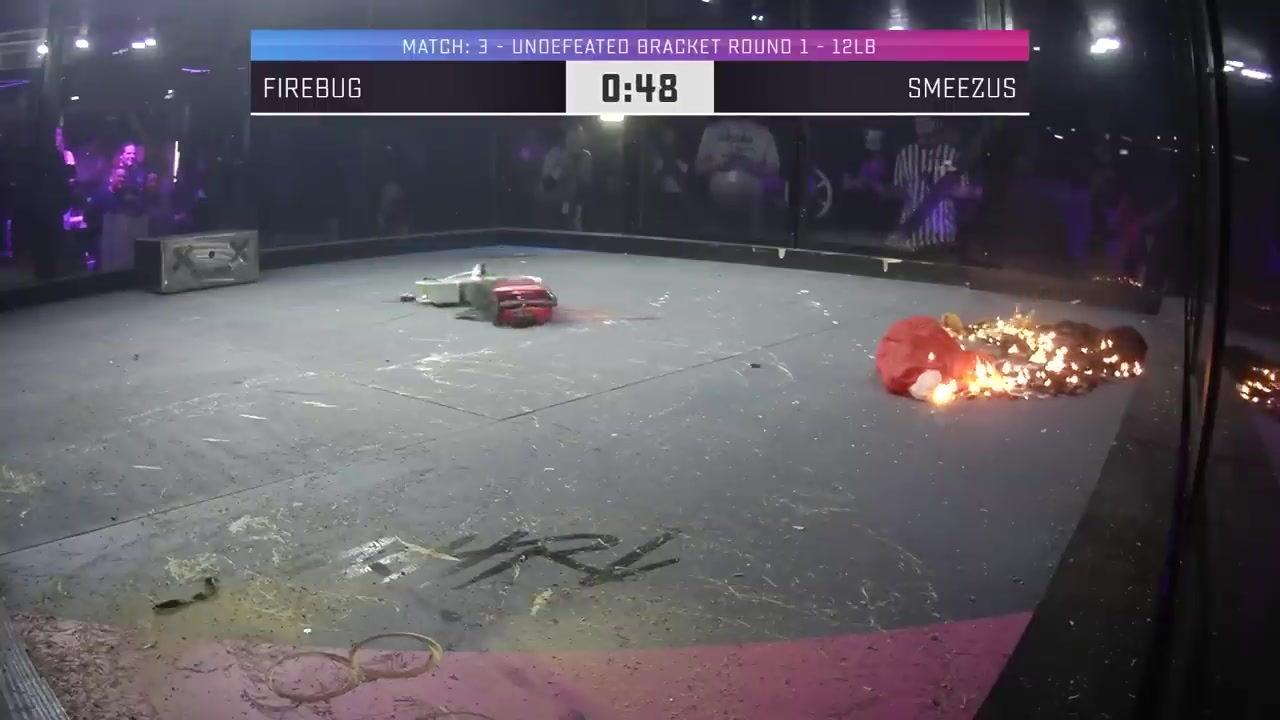combatbot: (873, 311, 1150, 414), (400, 263, 559, 327)
housebot: (137, 234, 262, 296)
